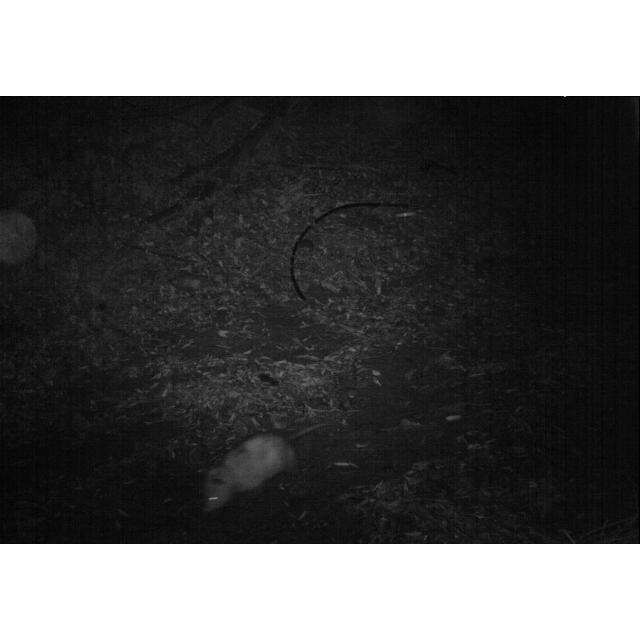animals: (198, 416, 332, 512)
